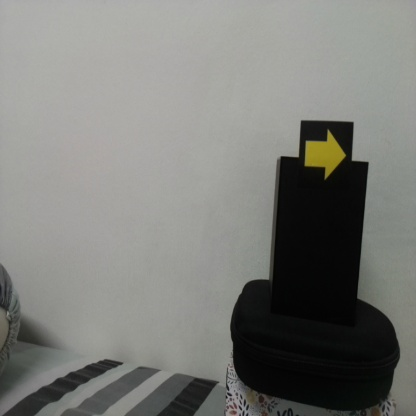id_3: (301, 123, 352, 185)
